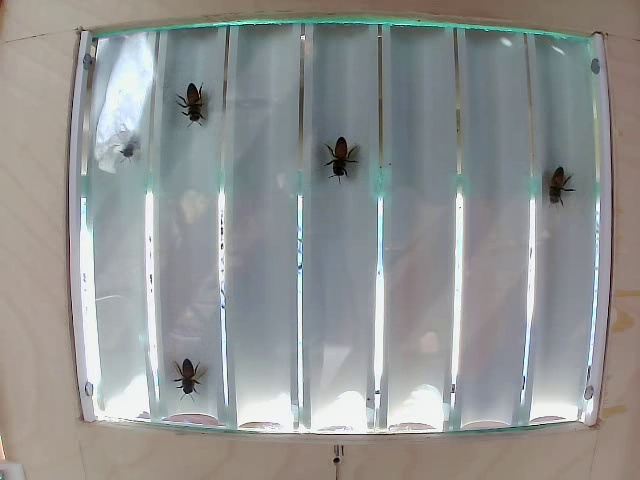bee: (323, 126, 369, 191), (173, 354, 216, 396), (178, 83, 215, 124), (551, 163, 573, 207)
